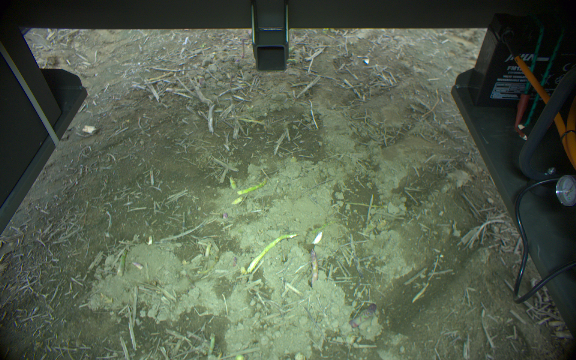aspa: (246, 232, 299, 273), (349, 303, 376, 331), (237, 177, 268, 196), (309, 248, 322, 287), (115, 250, 130, 276), (226, 175, 239, 190)
